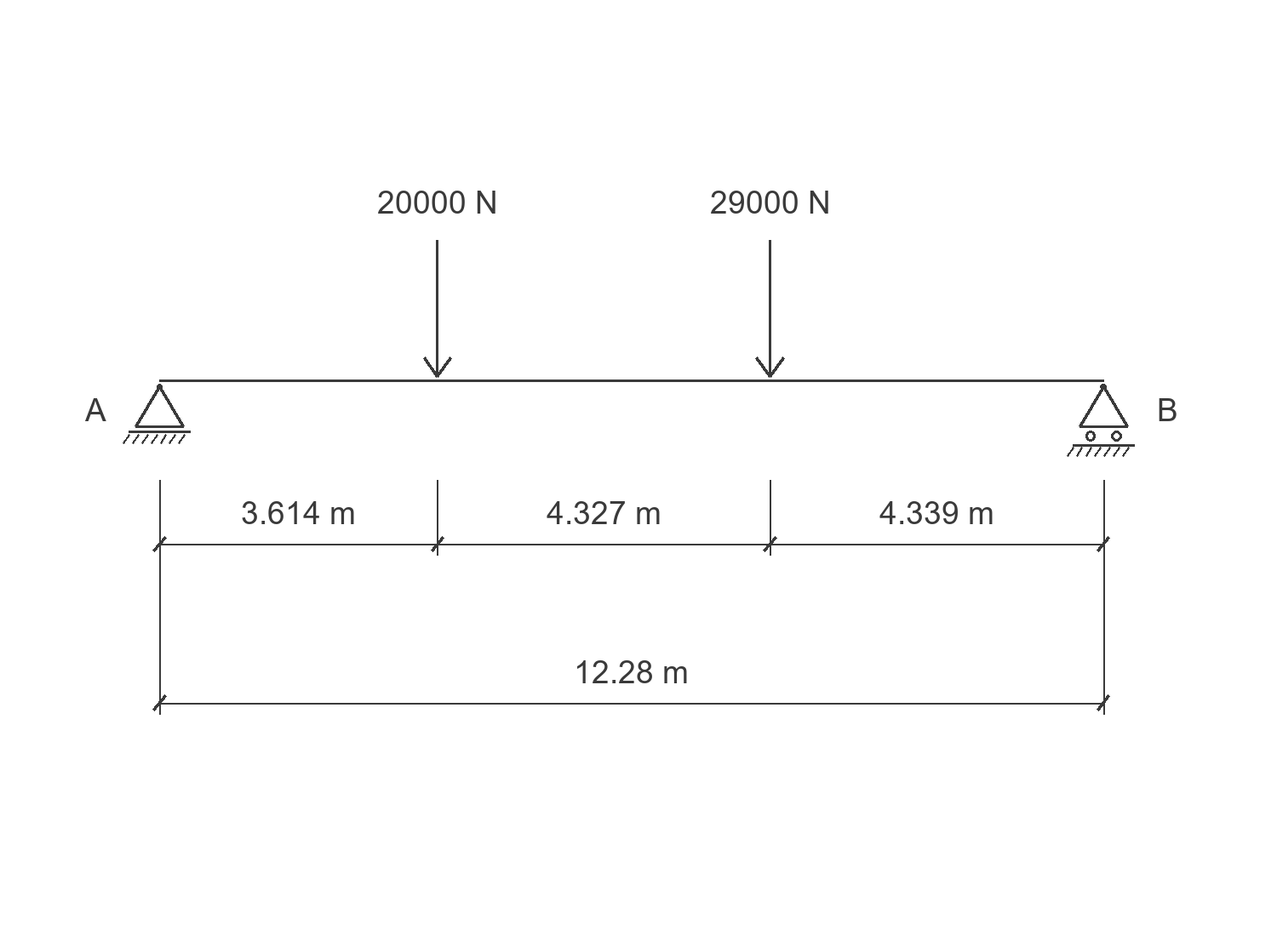pin_support: (123, 384, 191, 444)
point_load: (755, 240, 785, 378), (423, 240, 452, 378)
roller_support: (1067, 384, 1135, 457)
